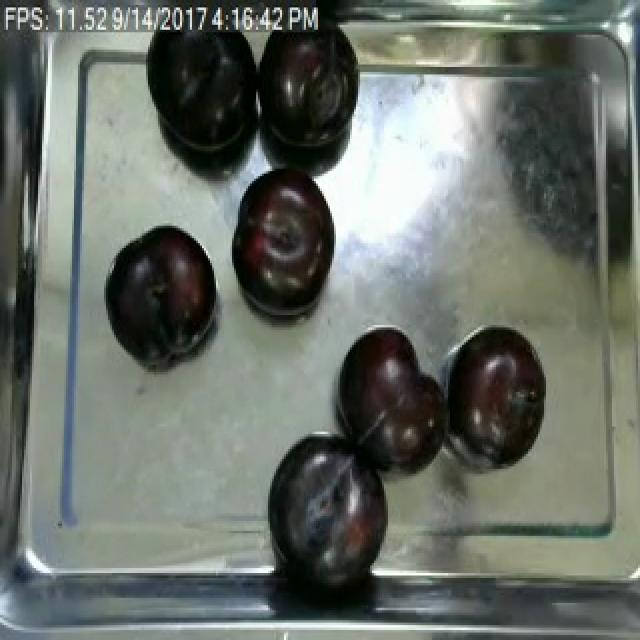Fruit: (256, 426, 396, 580), (330, 322, 454, 474), (140, 17, 264, 164), (226, 159, 340, 315), (102, 221, 222, 362), (254, 22, 366, 162), (442, 322, 550, 464)
